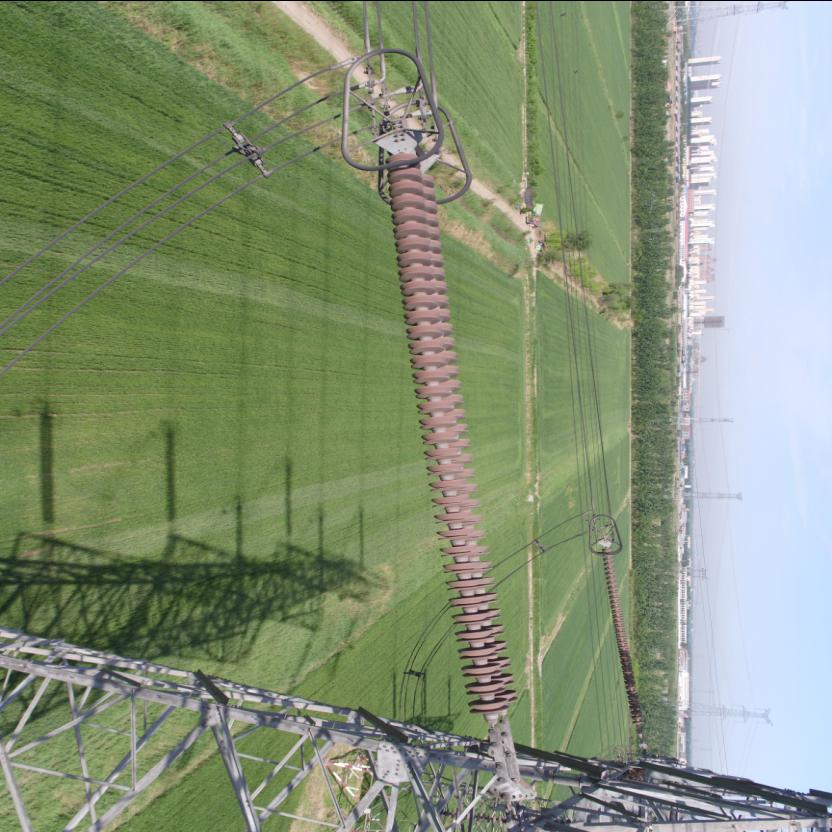insulator: (384, 146, 522, 746), (603, 548, 645, 724)
